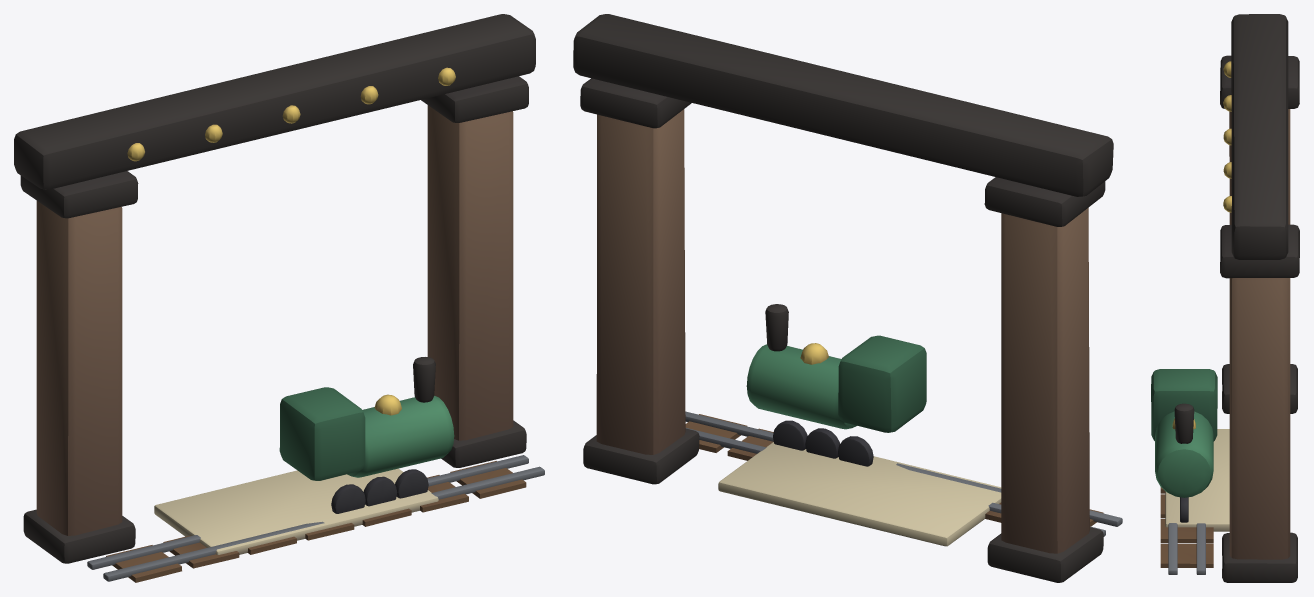
3 views of the same model, side by side, from view 1: azimuth 30°, elevation 25°; view 2: azimuth 150°, elevation 25°; view 3: azimuth 270°, elevation 25° (orthographic). The views are drawn at different scales.
Visible parts, largest first — view 1: gate_28e9d7f0; view 2: gate_28e9d7f0; view 3: gate_28e9d7f0.
Part boxes in pixels (x1=…): gate_28e9d7f0: x1=14, y1=14, x2=544, y2=582; gate_28e9d7f0: x1=573, y1=14, x2=1122, y2=582; gate_28e9d7f0: x1=1151, y1=14, x2=1299, y2=582.
Size of the model in its own units: 5.38 by 4.28 by 1.57.
